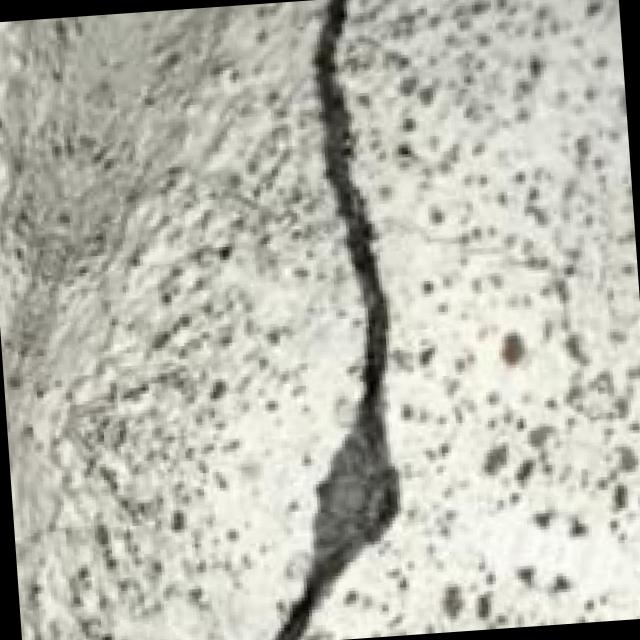crack: (180, 0, 553, 640)
